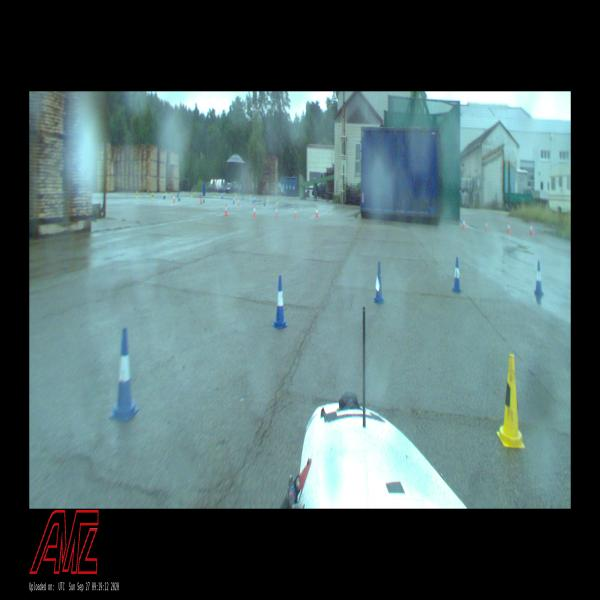blue_cone: (109, 329, 139, 423), (272, 276, 288, 328), (374, 262, 384, 303), (452, 257, 461, 293), (534, 262, 543, 296)
orange_cone: (529, 223, 533, 235), (224, 204, 228, 215), (484, 220, 488, 231), (253, 204, 256, 217), (507, 222, 510, 234), (462, 218, 465, 229), (275, 206, 278, 217), (294, 208, 297, 218), (237, 196, 240, 206), (316, 207, 318, 217), (173, 194, 175, 203)
yellow_cone: (496, 354, 525, 450), (152, 192, 154, 202)
